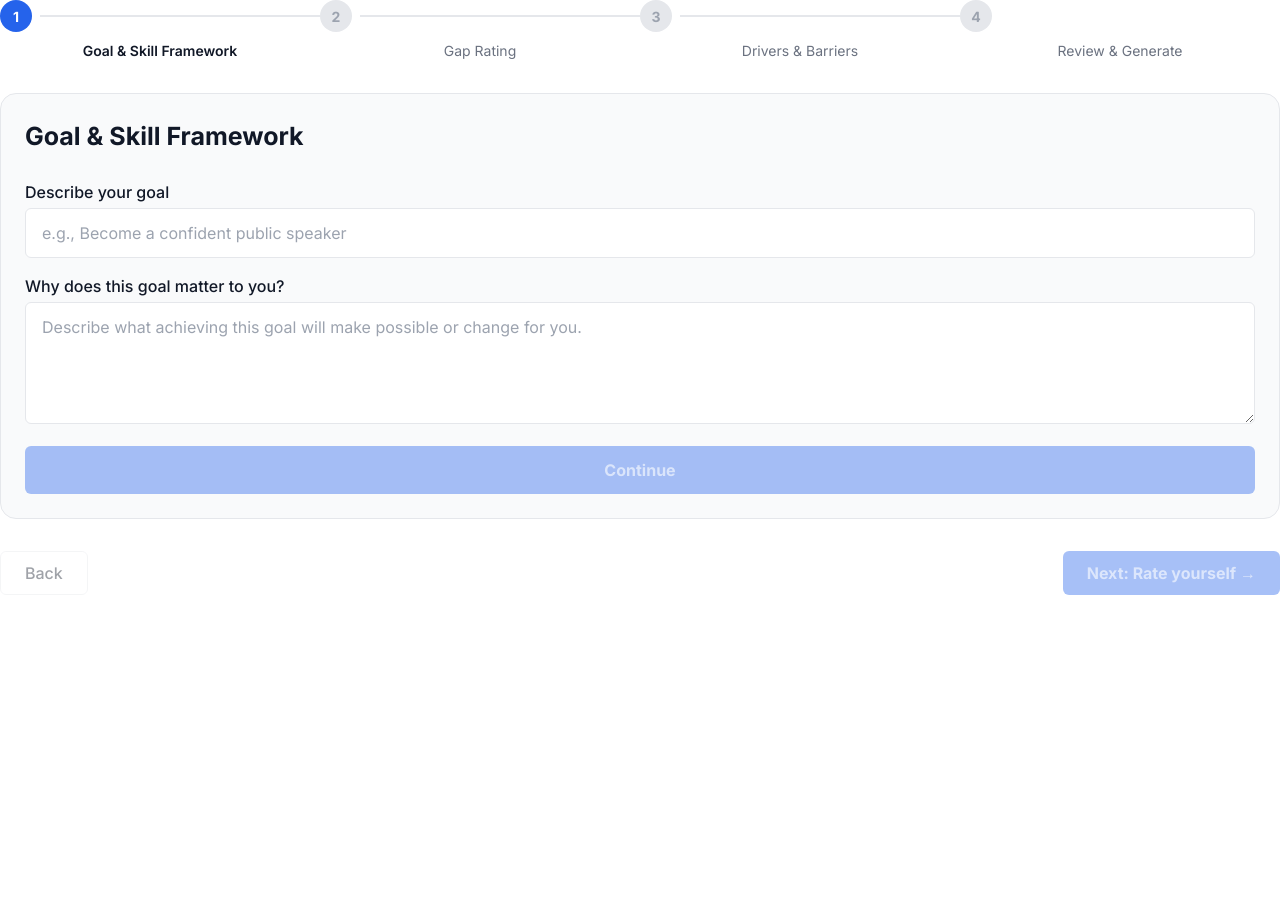
it: GoalWizard › Advance gating › marks a step complete in the stepper after advancing past it
Type "Learn to swim" into the field labelled "Describe your goal". click: (640, 232)
box: [25,208,1255,258]
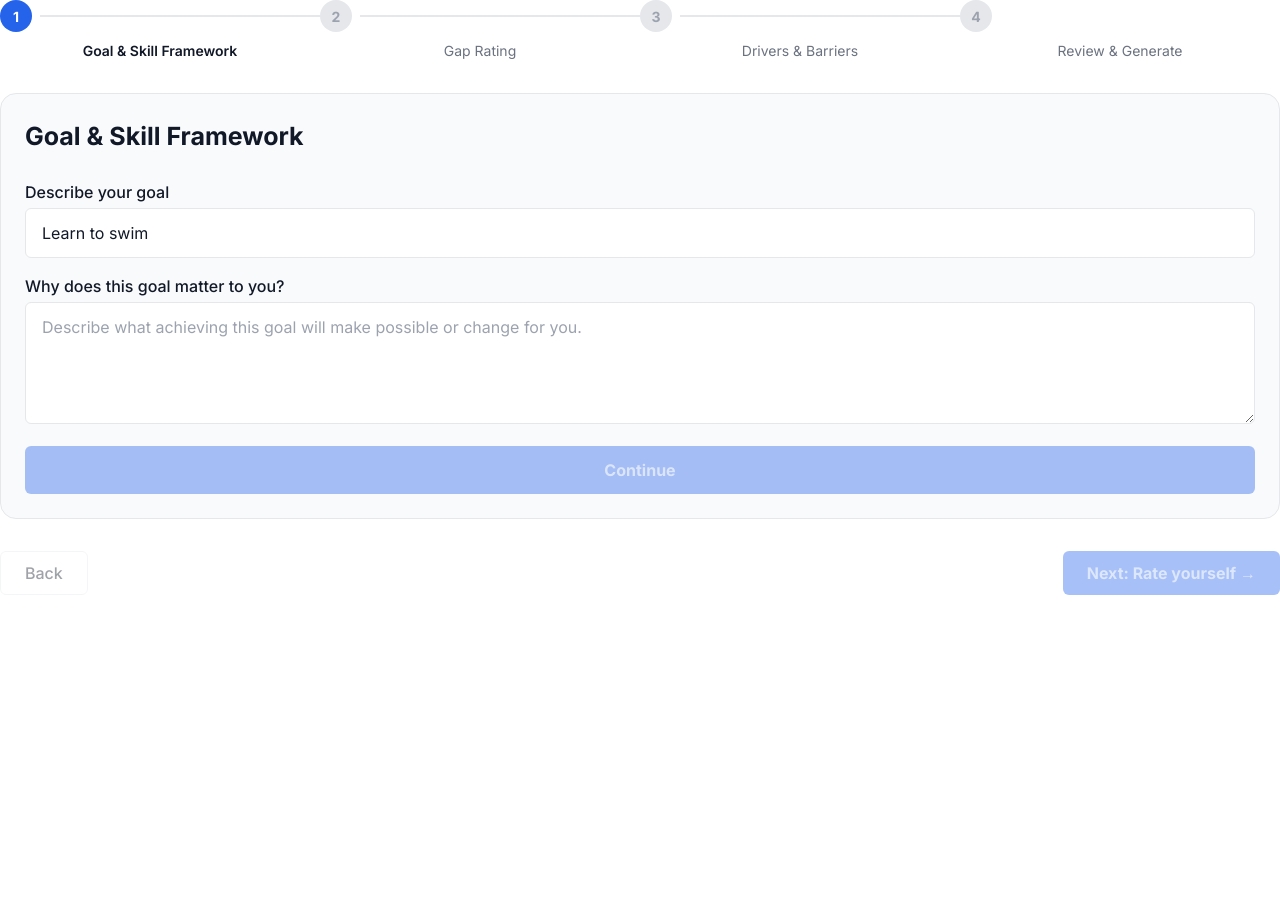
Replace the text in the text box labelled "Why does this goal matter to you?" with "This matters because it supports a meaningful life direction.". click: (640, 362)
box: [25,302,1255,424]
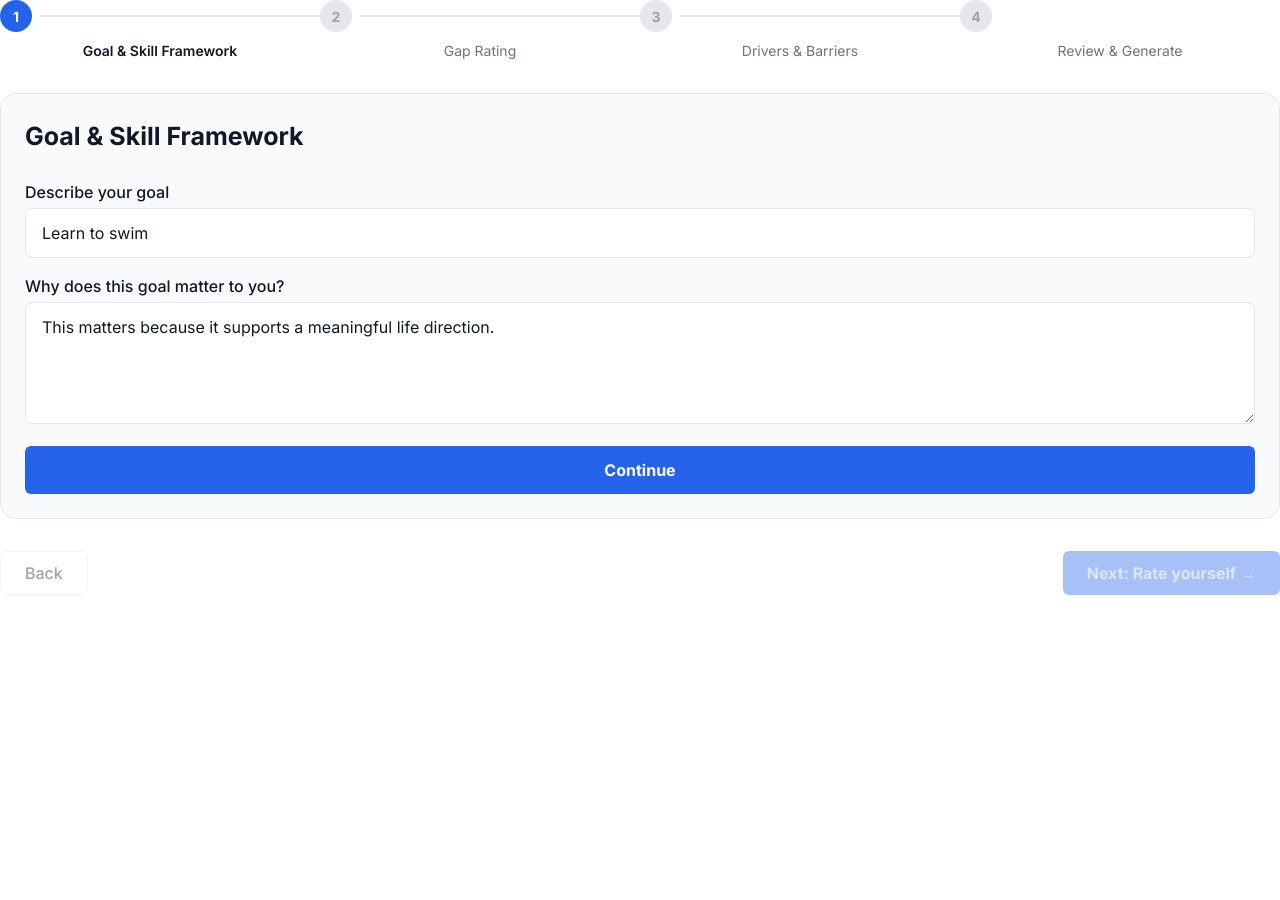
Click the button "Continue". click: (640, 470)
box: [25,446,1255,494]
(page scrolled)
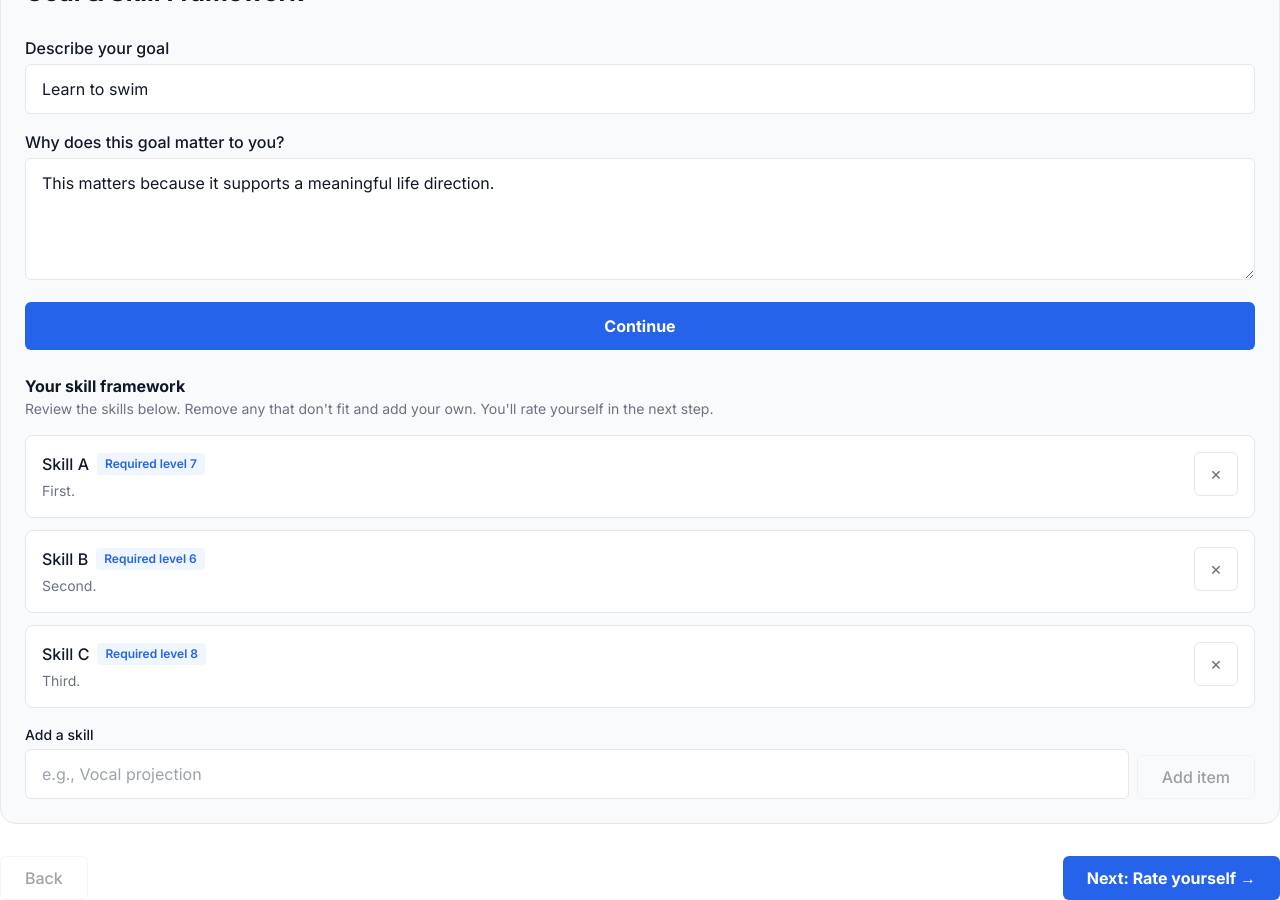
Result: the heading "Your skill framework" is shown at [25,376,185,396]
Click the button "Next: Rate yourself →". click: (1171, 878)
box: [1063,856,1279,899]
(page scrolled)
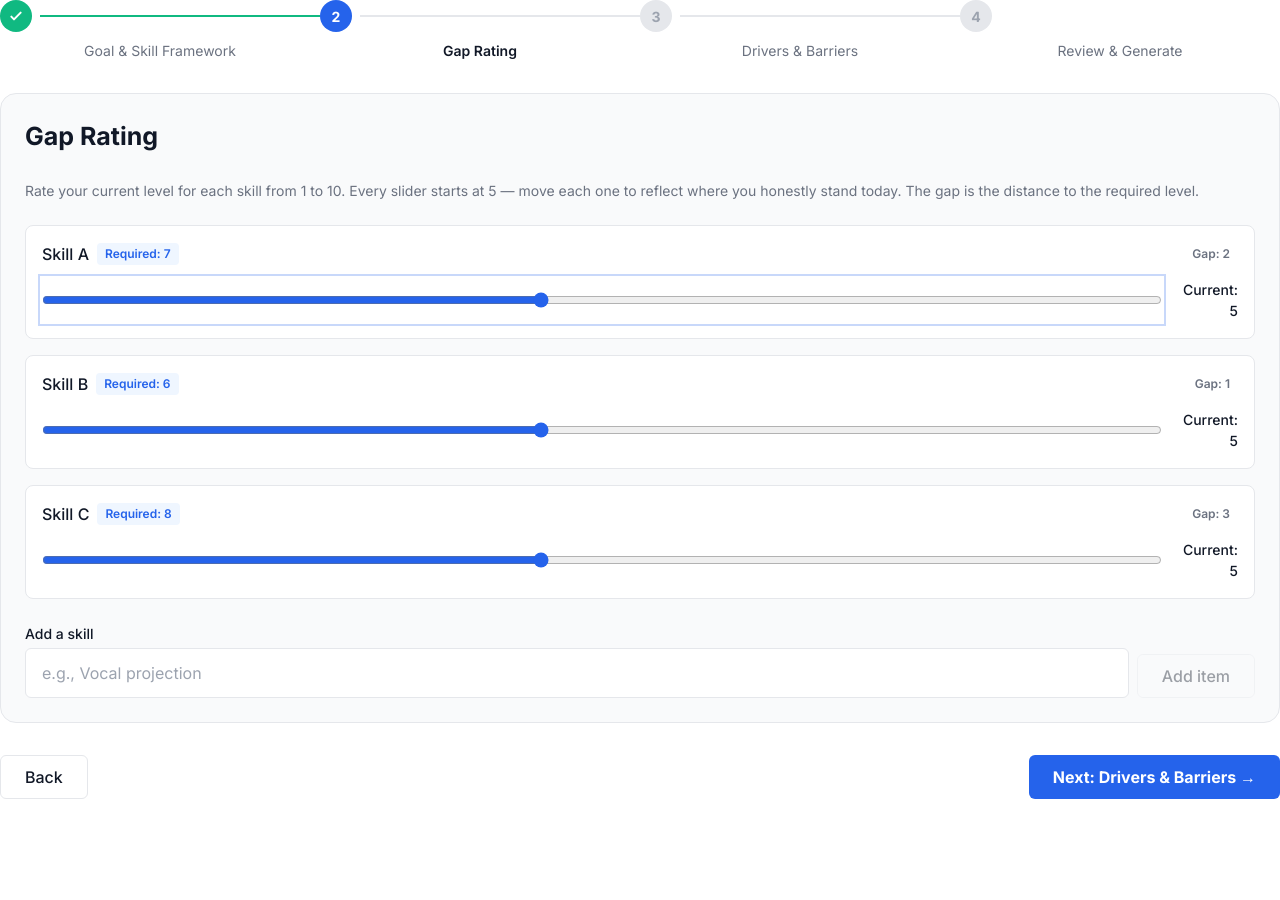
Result: the list item with aria-label "Step 1 of 4: Goal & Skill Framework, completed" is shown at [0,0,320,61]
